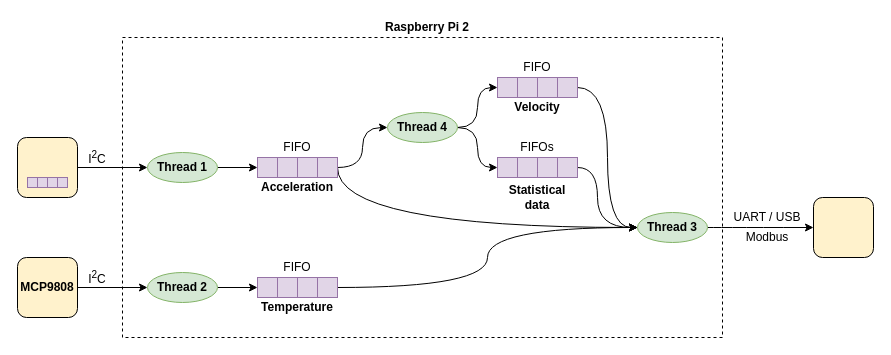
This 891x355 diagram has some shape labels left out. Each missing label, with the centre of its shape:
"ADXL345 FIFO" belongs at point 47,167.
"PC Computer" belongs at point 843,227.
